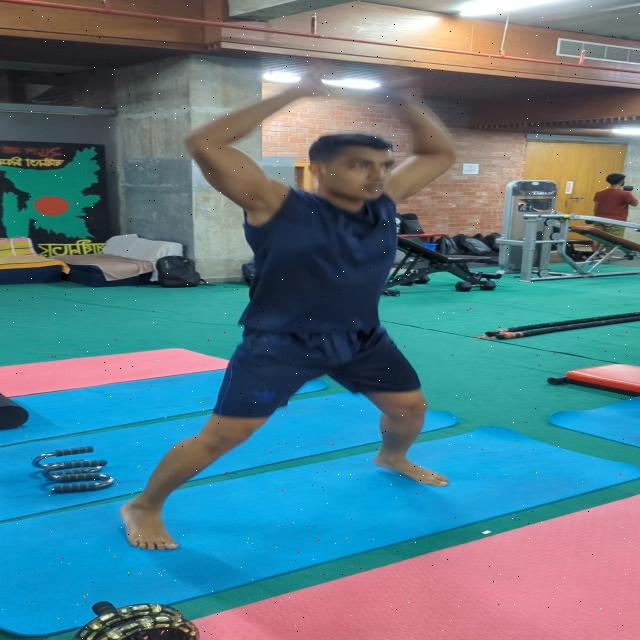Normal_JumpingJacks: (101, 70, 488, 532)
